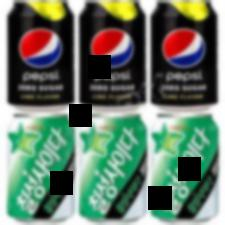chilsungcider_zero: (76, 112, 148, 221), (151, 115, 223, 224), (8, 113, 75, 223)
pepsi_zero: (75, 1, 148, 114), (6, 0, 78, 113), (147, 1, 219, 113)
